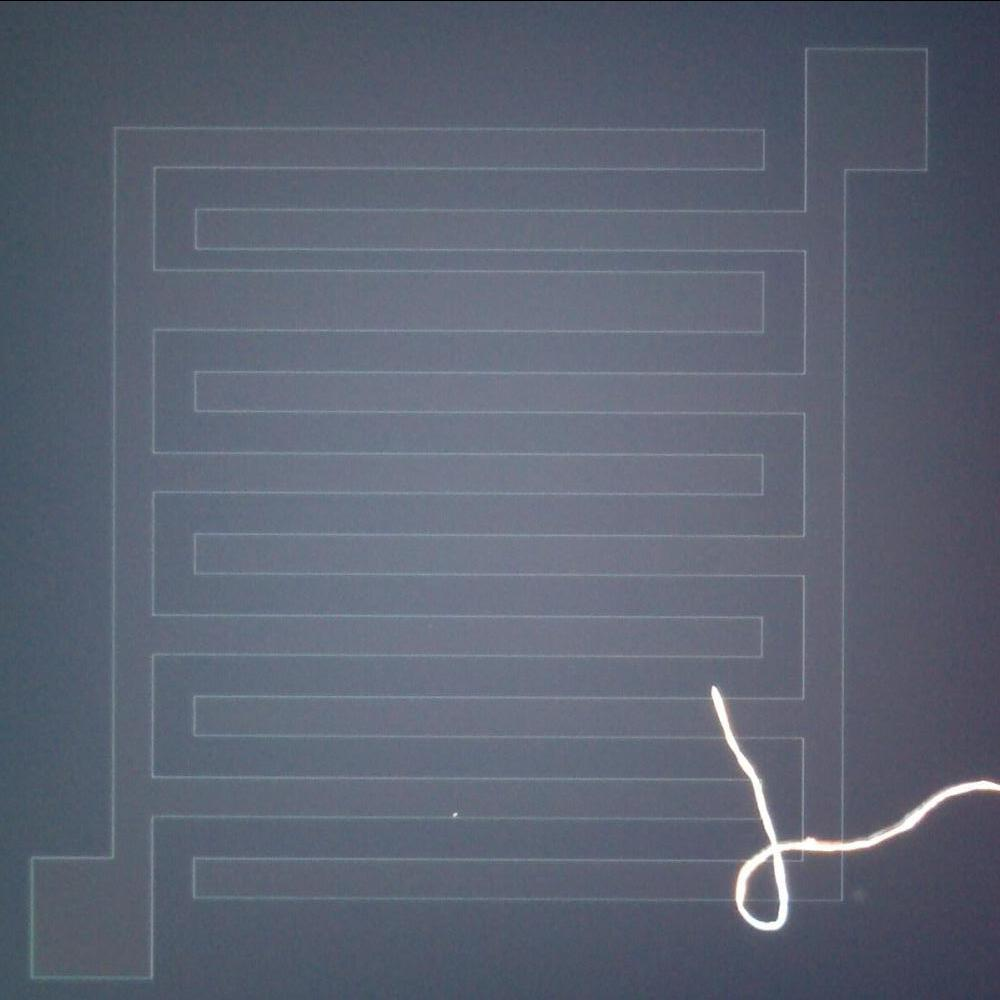dot: (444, 802, 468, 823)
line: (694, 678, 999, 955)
